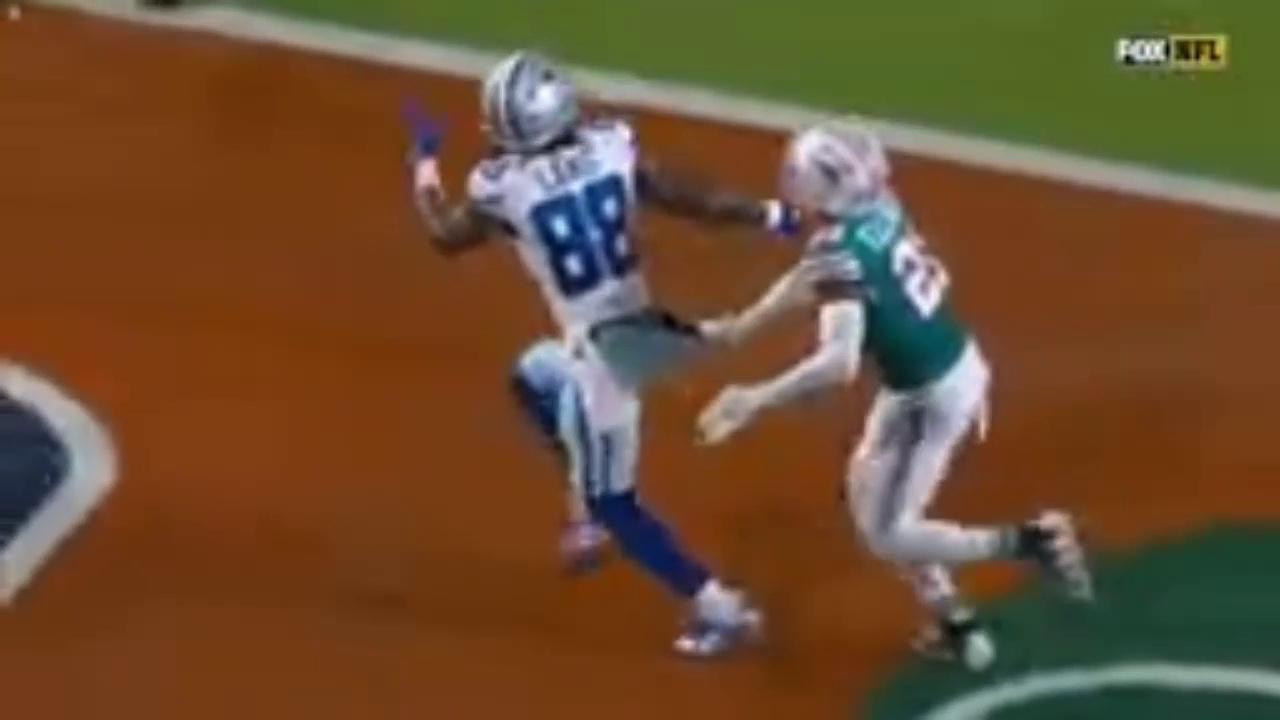interference: (627, 305, 750, 354)
